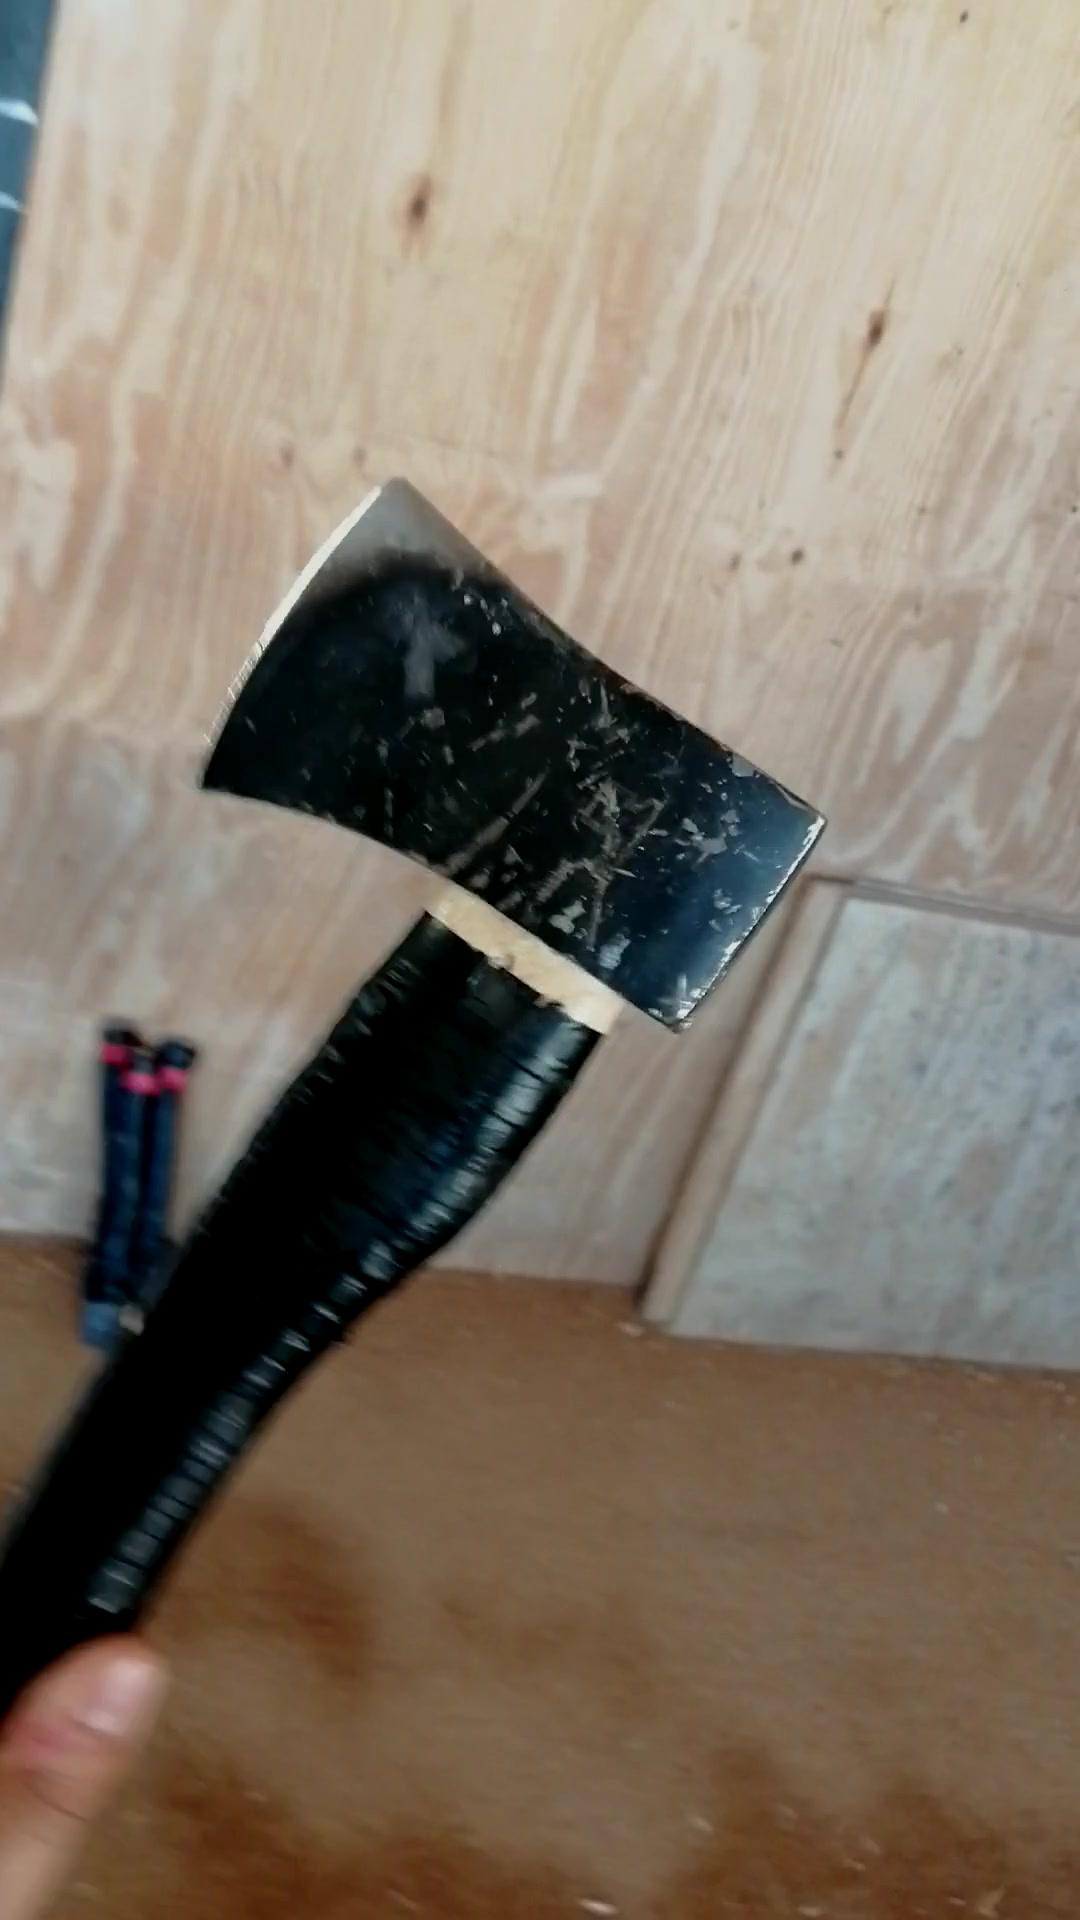Hand Axe: (200, 477, 825, 1030)
